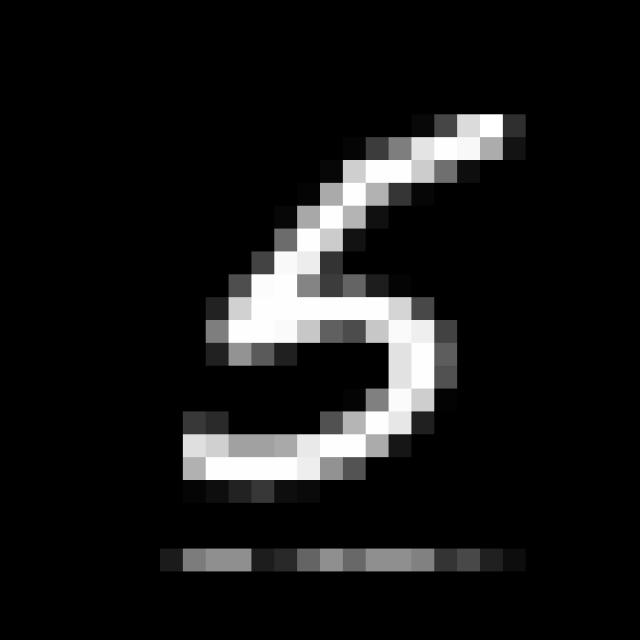five -5-: (172, 108, 500, 498)
